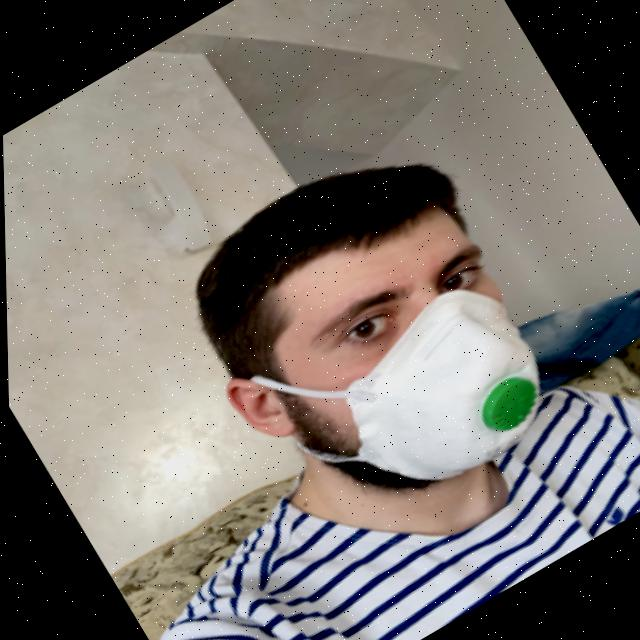Mask: (205, 232, 573, 561)
